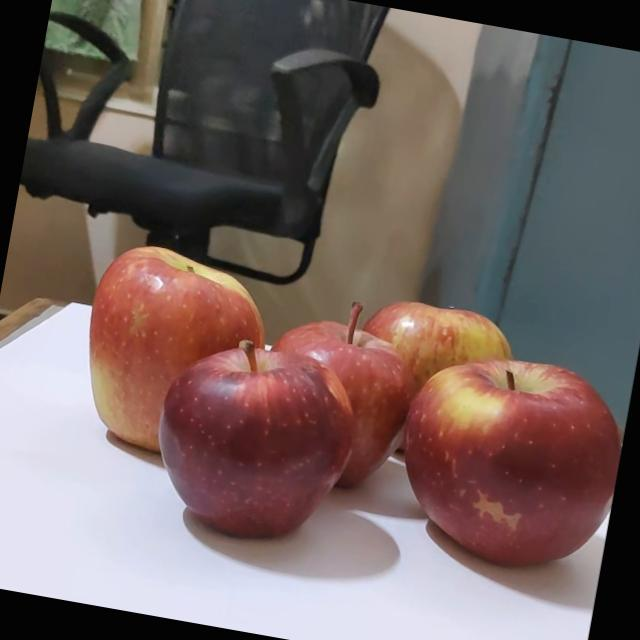apple: (374, 330, 636, 582), (131, 314, 374, 553), (65, 223, 289, 464), (245, 274, 438, 500), (340, 289, 532, 466)
